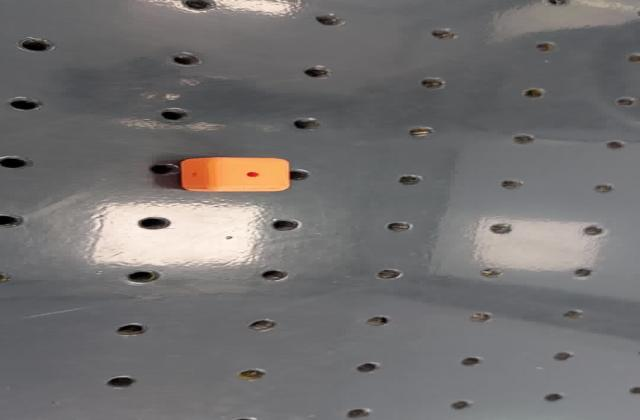cube: (174, 154, 298, 194)
